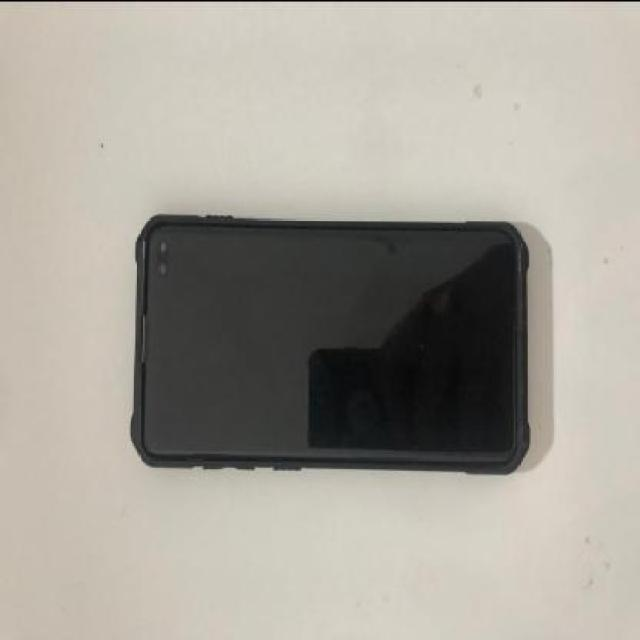cellphone: (130, 209, 532, 474)
